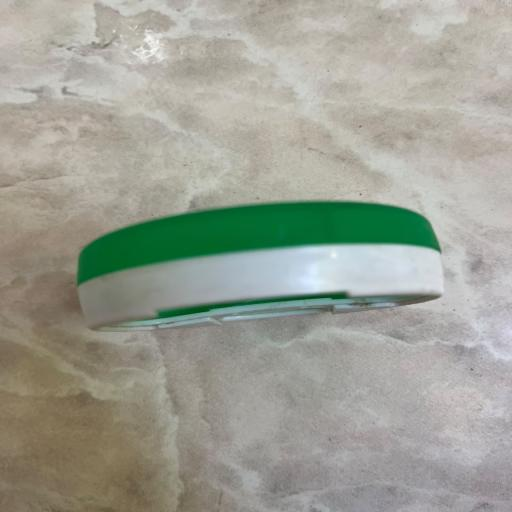HDPE: (57, 168, 453, 418)
